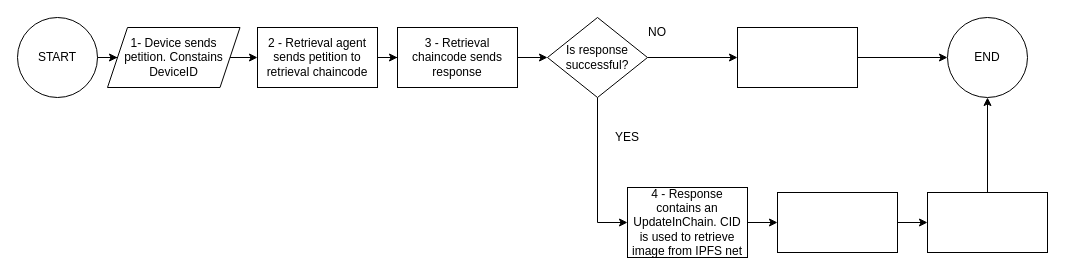
This 1065x276 diagram has some shape labels left out. The centre of each missing label's shape, as x and y in pixels:
5 - Update instance is build from UpdateInChain and image: the point at 837,222
6 - Error message is sent: the point at 797,57
6 - Update is sent to device: the point at 987,222
